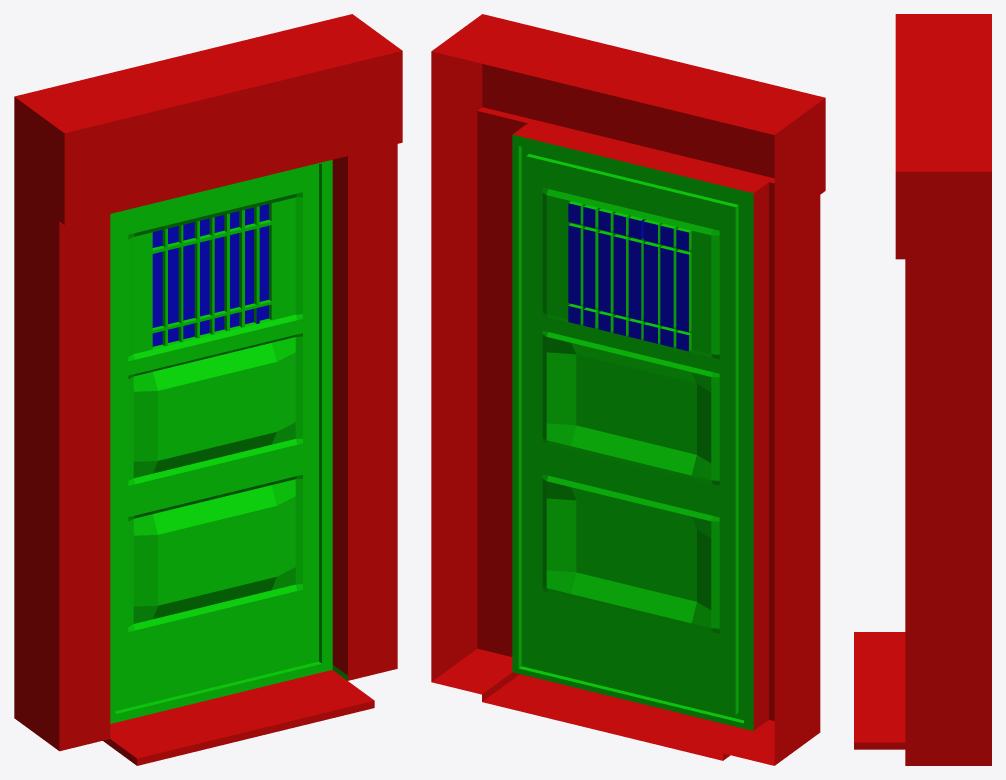
Rendered from SingleDoor02_Nice.fbx.
3 views of the same model, side by side, from view 1: azimuth 30°, elevation 25°; view 2: azimuth 150°, elevation 25°; view 3: azimuth 270°, elevation 25° (orthographic). The views are drawn at different scales.
Visible parts, largest first — view 1: SingleDoor002; view 2: SingleDoor002; view 3: SingleDoor002.
Part boxes in pixels (left/top/right/bottom): SingleDoor002: left=14, top=14, right=402, bottom=765; SingleDoor002: left=431, top=14, right=825, bottom=765; SingleDoor002: left=854, top=14, right=991, bottom=765.
Size of the model in its own units: 114 by 202 by 42.08.
